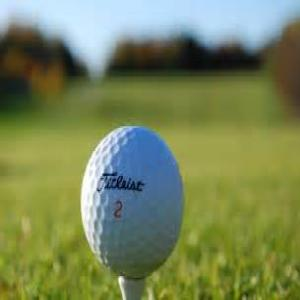Golf: (81, 121, 185, 277)
